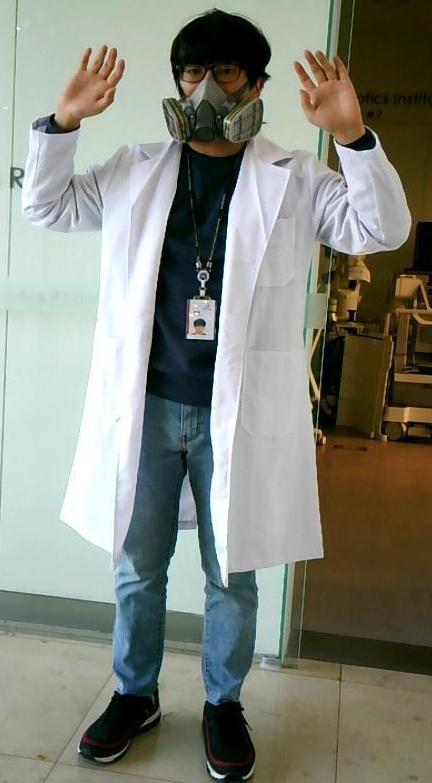lab_coat: (54, 160, 330, 541)
